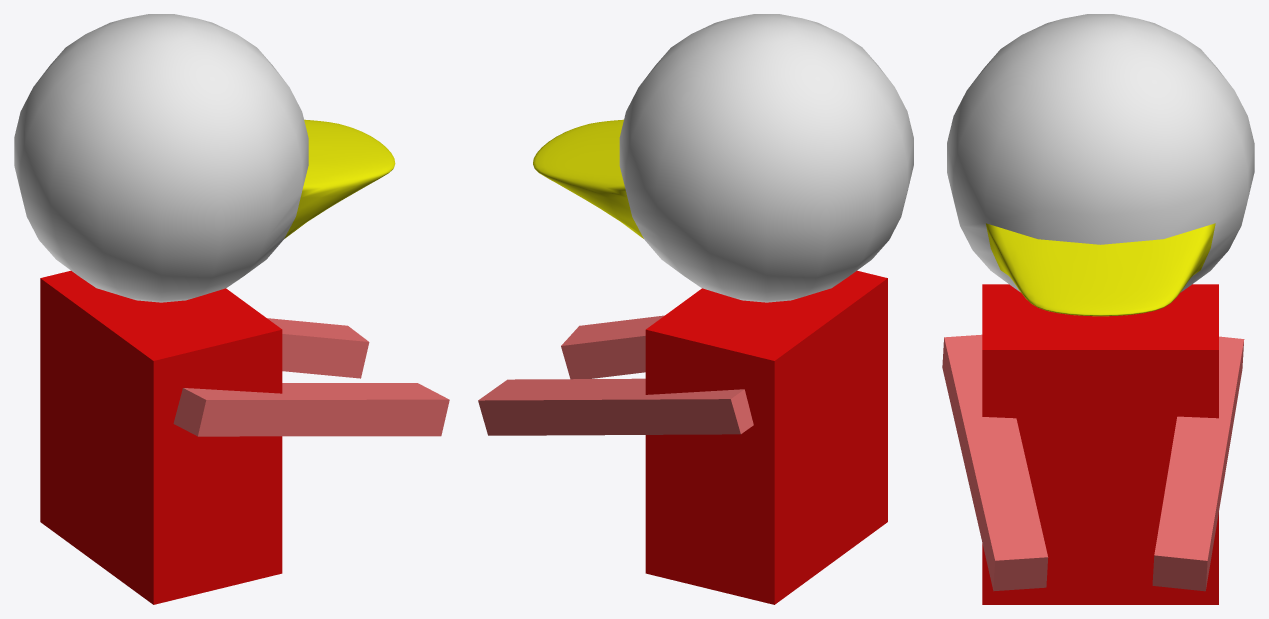
File: duck.fbx
3 renders of one model, left to right at view 1: azimuth 30°, elevation 25°; view 2: azimuth 150°, elevation 25°; view 3: azimuth 270°, elevation 25°, orthographic. The views are drawn at different scales.
Parts seen in each view (by area): view 1: pCube4; view 2: pCube4; view 3: pCube4.
Boxes of the visible parts, x1=… form: pCube4: x1=14, y1=14, x2=449, y2=604; pCube4: x1=478, y1=14, x2=913, y2=604; pCube4: x1=942, y1=14, x2=1254, y2=604.
Bounding box in the file's own units: 2.82 × 3.86 × 2.01.
